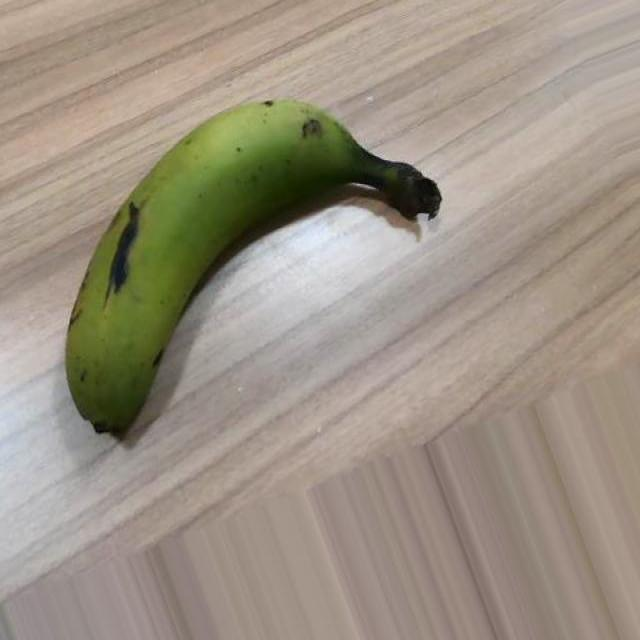Unripe: (64, 95, 441, 437)
